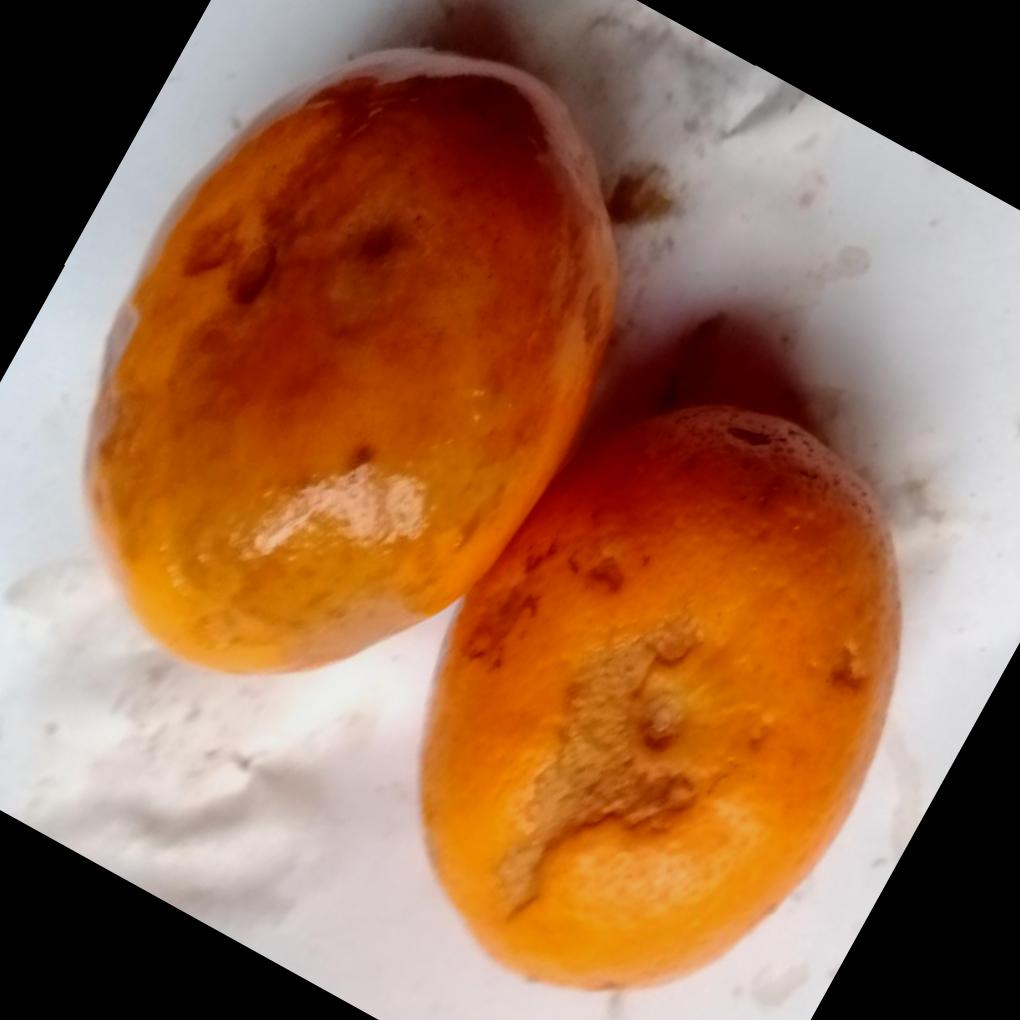FreshOrange: (82, 42, 902, 992)
